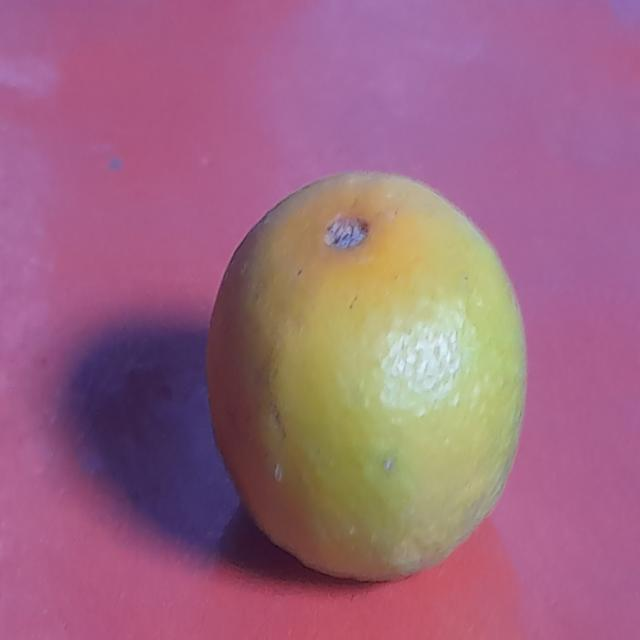greening: (207, 163, 534, 584)
